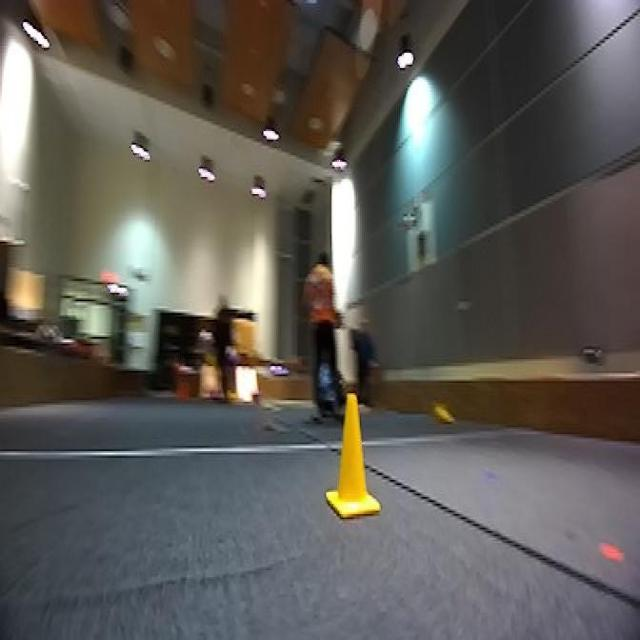frc_cone: (322, 388, 379, 518), (426, 400, 459, 431)
